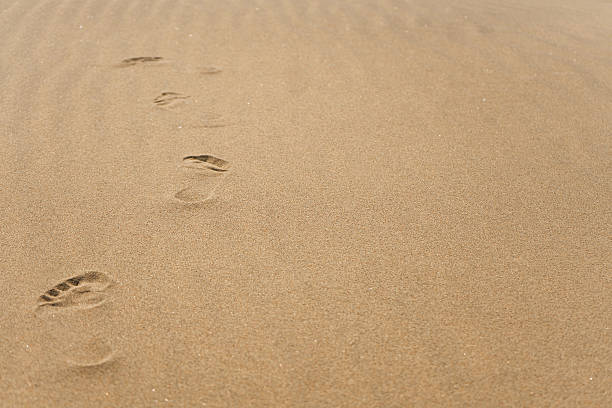human_footprint: (35, 271, 115, 366), (174, 154, 230, 202), (153, 91, 189, 108), (117, 56, 164, 67)
